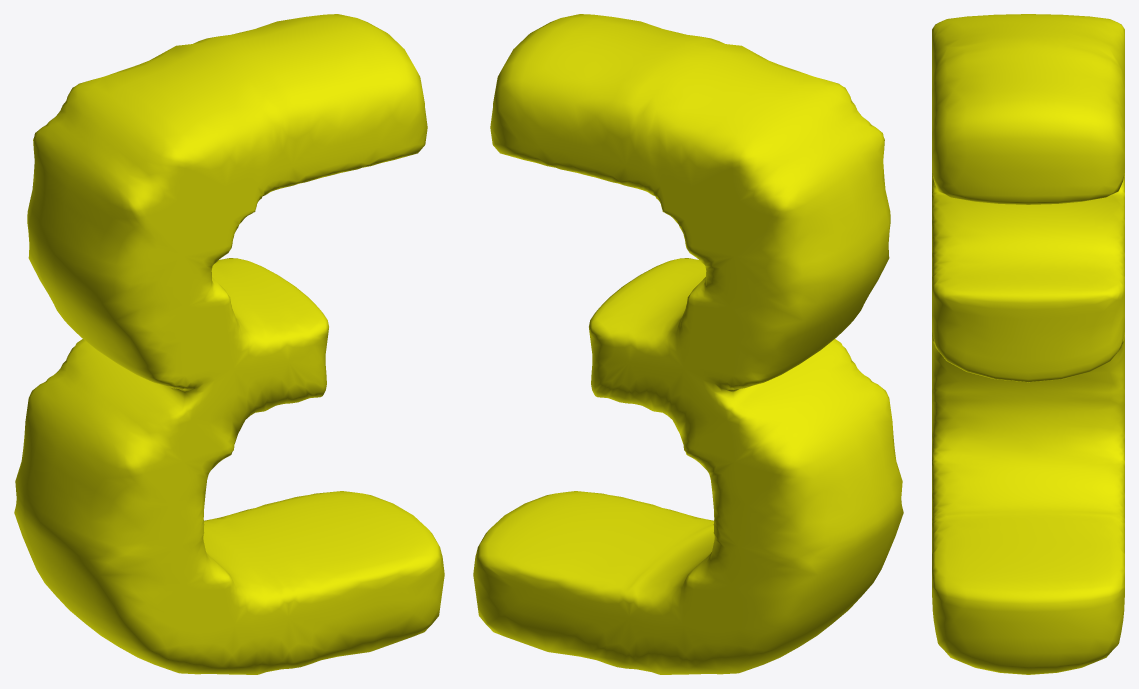
The picture shows the model from 3 angles, left to right: view 1: azimuth 30°, elevation 25°; view 2: azimuth 150°, elevation 25°; view 3: azimuth 270°, elevation 25°; orthographic projection. The views are drawn at different scales.
Parts seen in each view (by area): view 1: num_4; view 2: num_4; view 3: num_4.
Boxes of the visible parts, x1,y1,x2,y2 form: num_4: [14, 14, 444, 674]; num_4: [473, 14, 903, 674]; num_4: [932, 14, 1124, 674].
Size of the model in its own units: 4.29 by 6.49 by 2.
